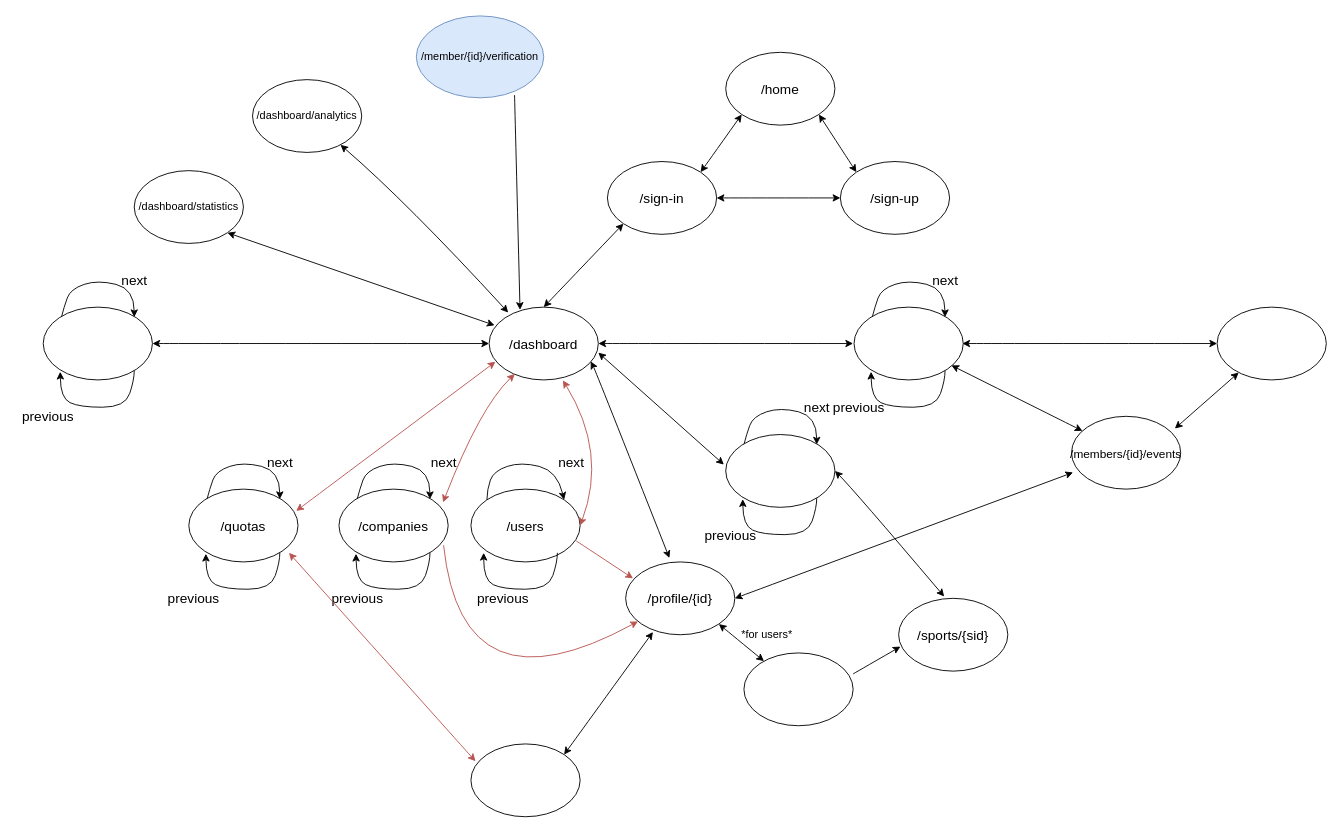
This 1342x833 diagram has some shape labels left out. Each missing label, with the centre of its shape:
"/candidates" goes at [97,343].
"/events" goes at [908,343].
"/events/{eid}" goes at [1271,343].
"/members{id}/quotas" goes at [525,780].
"/sports" goes at [780,470].
"/users/{id}/sports/" goes at [798,689].
